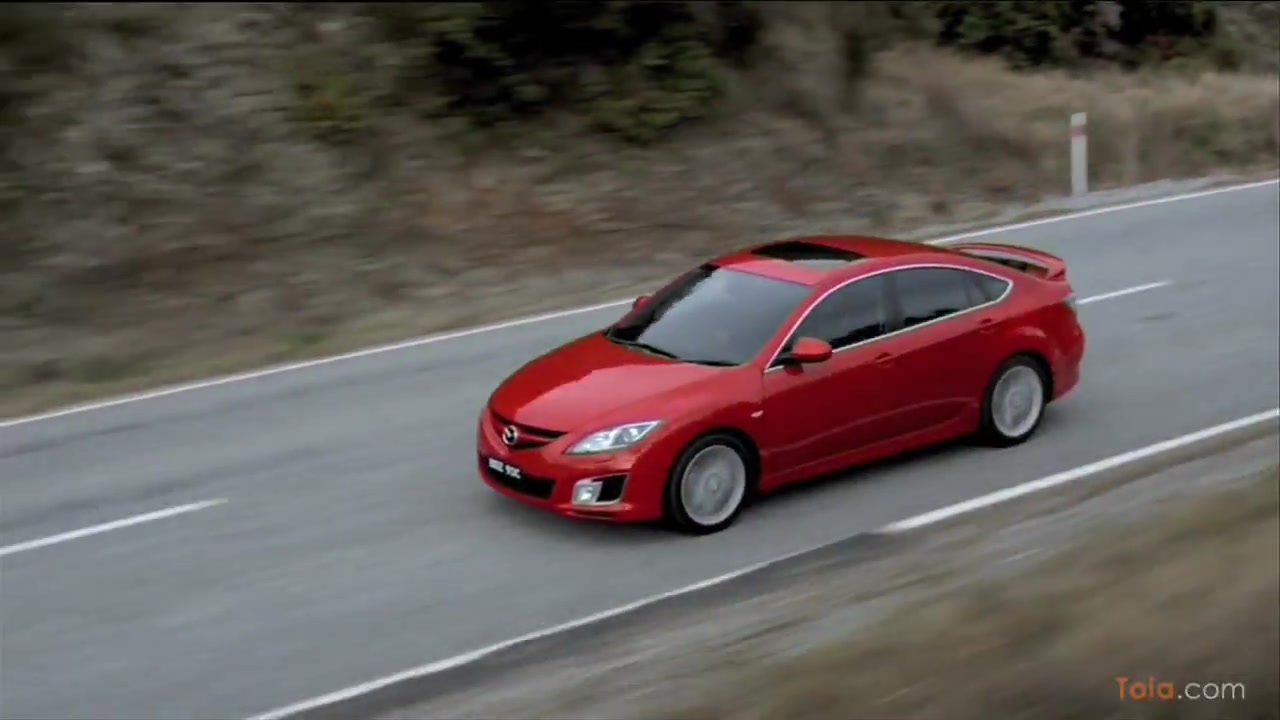car: (475, 232, 1089, 542)
